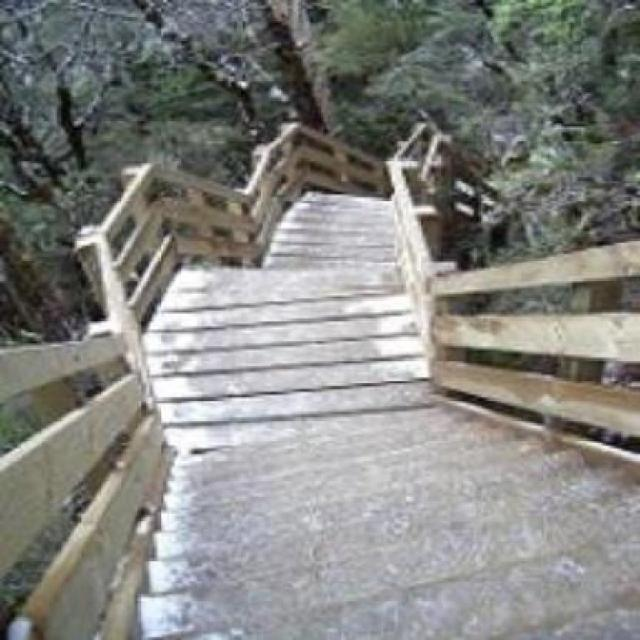stair: (149, 411, 640, 640)
